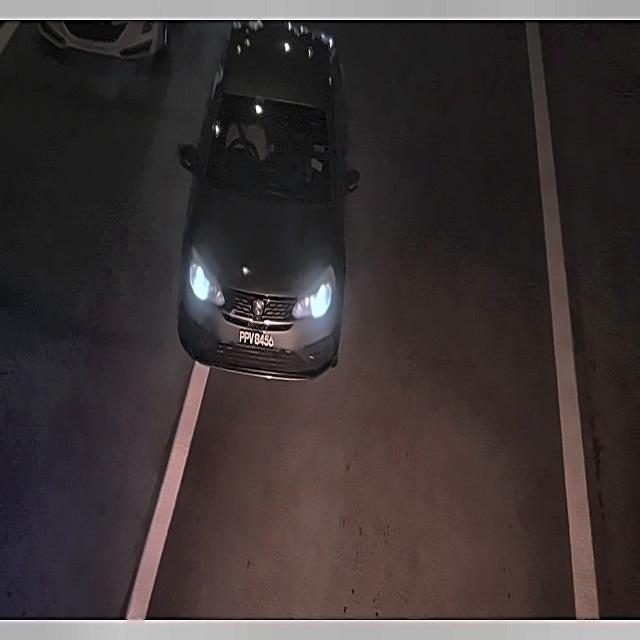car: (230, 325, 279, 356)
